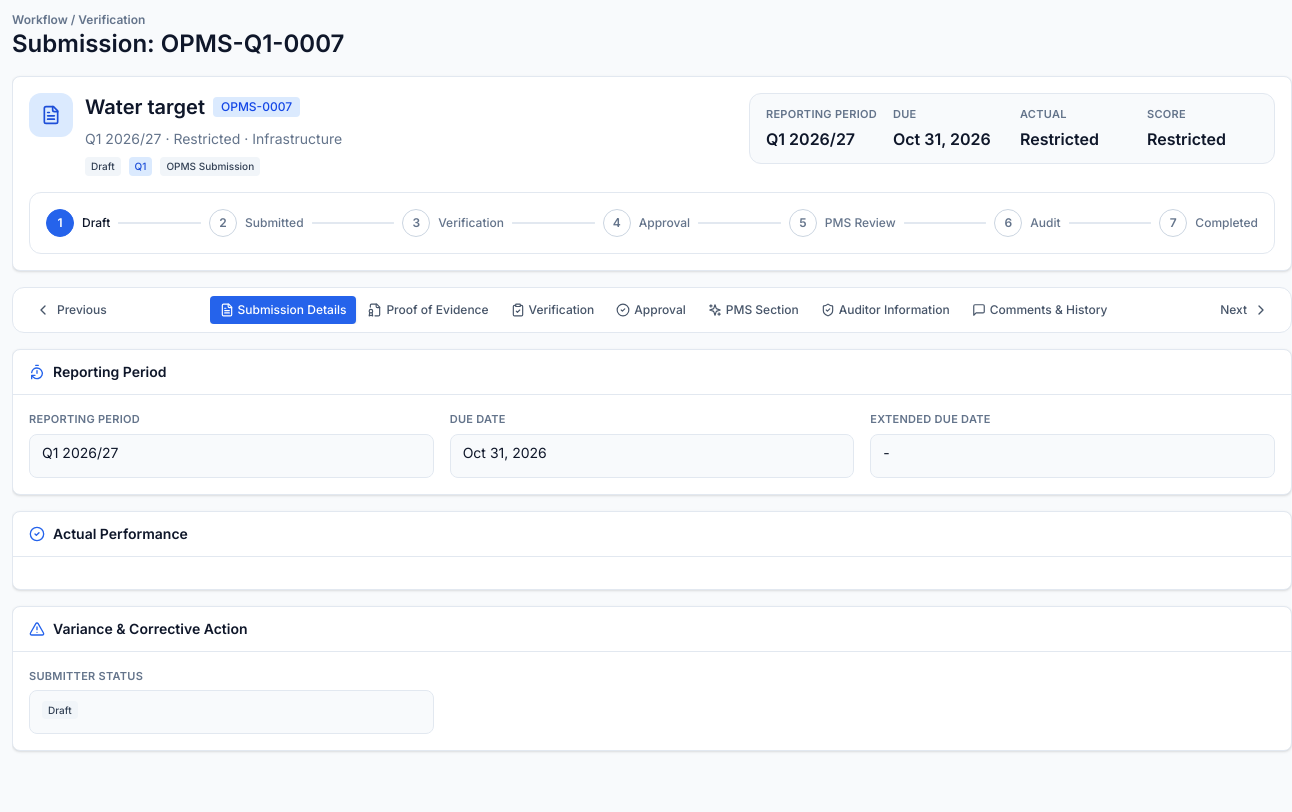
SubmissionWorkspace member security › loads bounded due-date extension history and renders only independently readable members
Click the tab "Comments & History": [1040, 310] box [962, 296, 1117, 324]
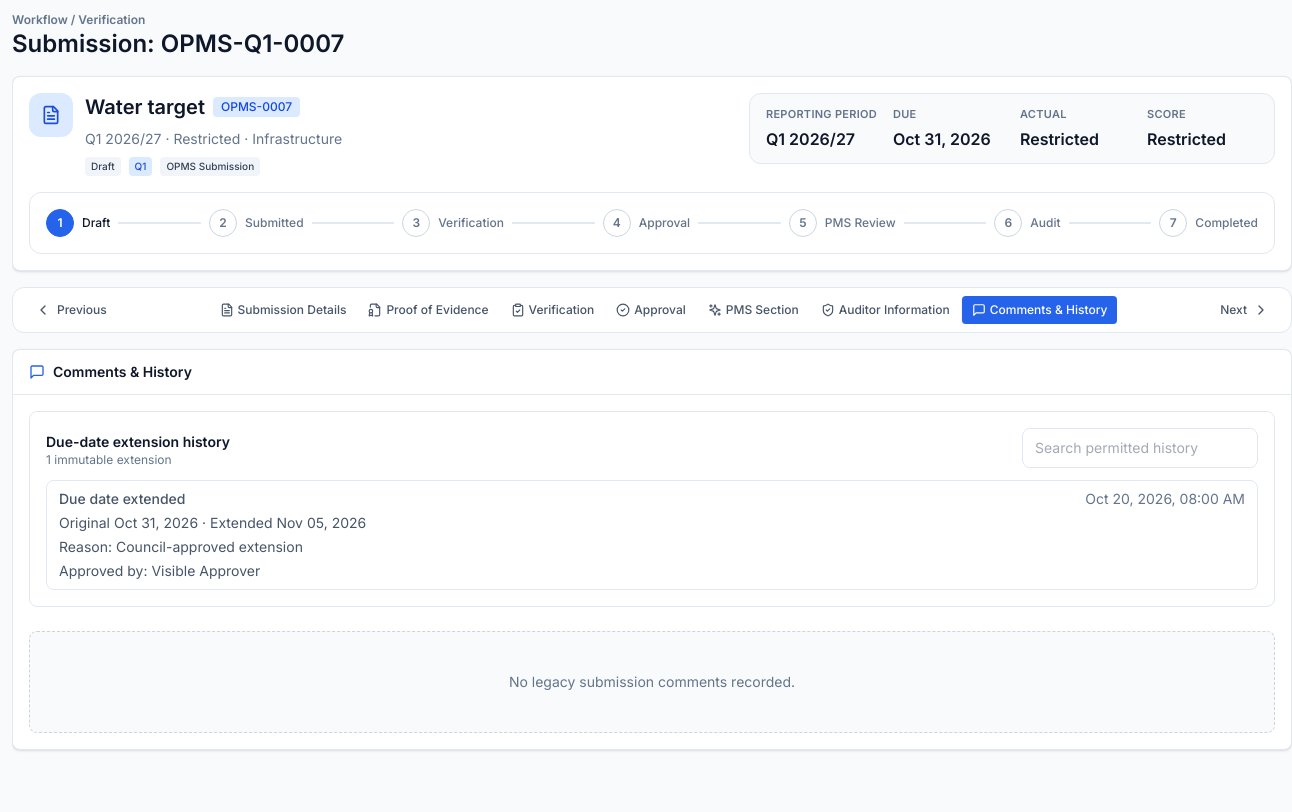
expect the text "1 immutable extension" is shown: met, box [46, 452, 172, 467]
expect the text "Reason: Council-approved extension" is shown: met, box [59, 538, 303, 555]
expect the text "Approved by: Visible Approver" is shown: met, box [59, 562, 260, 579]
